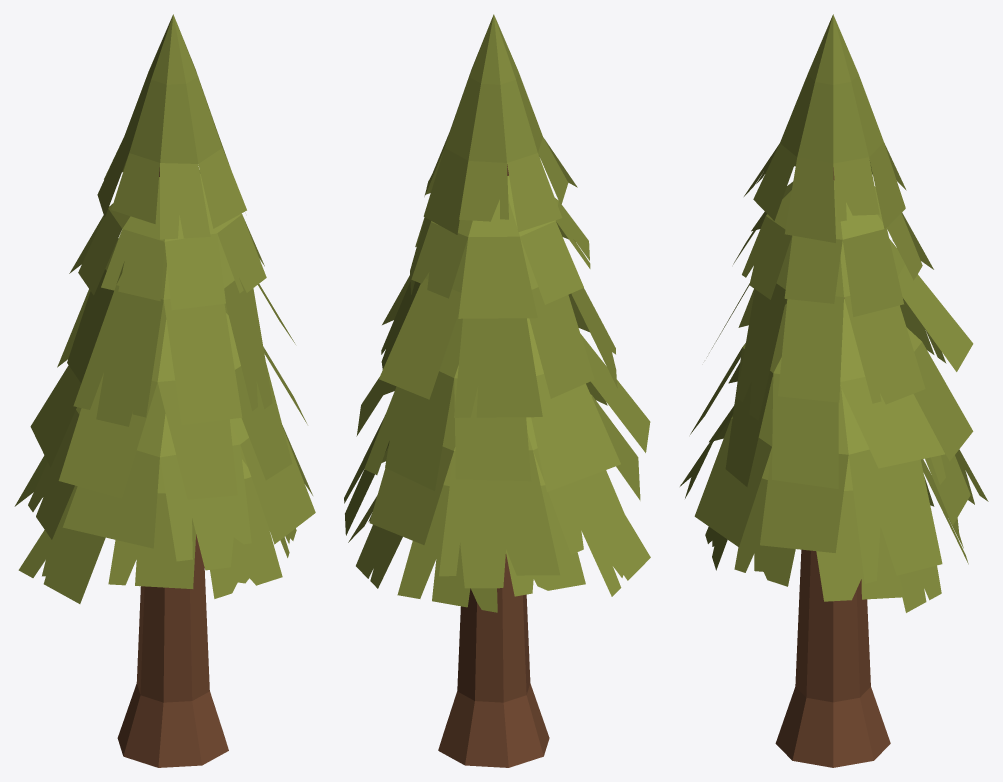
The model's file is arbol 5.fbx.
3 views of the same model, side by side, from view 1: azimuth 30°, elevation 25°; view 2: azimuth 150°, elevation 25°; view 3: azimuth 270°, elevation 25° (orthographic).
Parts seen in each view (by area): view 1: pino; view 2: pino; view 3: pino.
Part boxes in pixels (box(x1,y1,x2,y2)): pino: box(14, 14, 315, 767); pino: box(344, 14, 650, 767); pino: box(680, 14, 988, 767).
Size of the model in its own units: 222 by 574 by 220.
